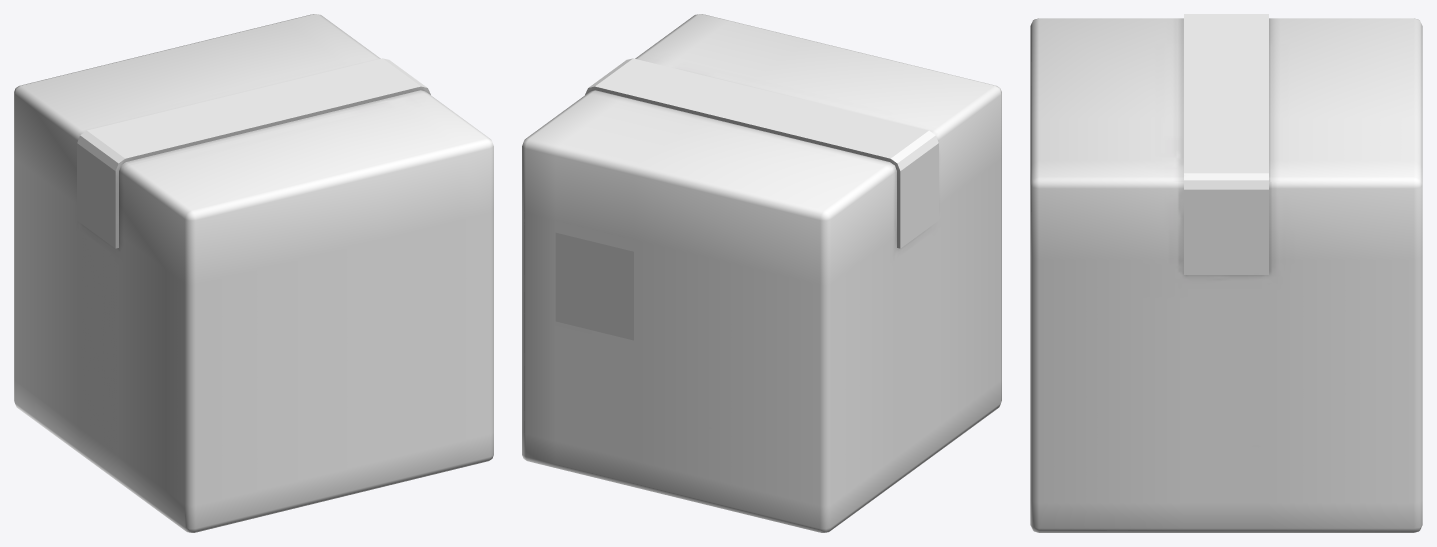
File: caja_01.glb
3 renders of one model, left to right at view 1: azimuth 30°, elevation 25°; view 2: azimuth 150°, elevation 25°; view 3: azimuth 270°, elevation 25°, orthographic. The views are drawn at different scales.
Visible parts, largest first — view 1: body, stripe, tape; view 2: body, stripe, tape, tag2, tag1; view 3: body, tape, stripe.
Part boxes in pixels (x1,y1,x2,y2): body: [14, 14, 493, 532]; stripe: [14, 327, 493, 505]; tape: [77, 58, 430, 248]; body: [522, 14, 1001, 532]; stripe: [522, 327, 1001, 505]; tape: [585, 58, 938, 248]; tag2: [555, 233, 633, 340]; tag1: [555, 220, 633, 251]; body: [1030, 18, 1422, 532]; tape: [1184, 14, 1268, 274]; stripe: [1030, 444, 1422, 502].
Size of the model in its own units: 0.5113 by 0.5056 by 0.5.
Materials: 5 (4 with a texture image).
